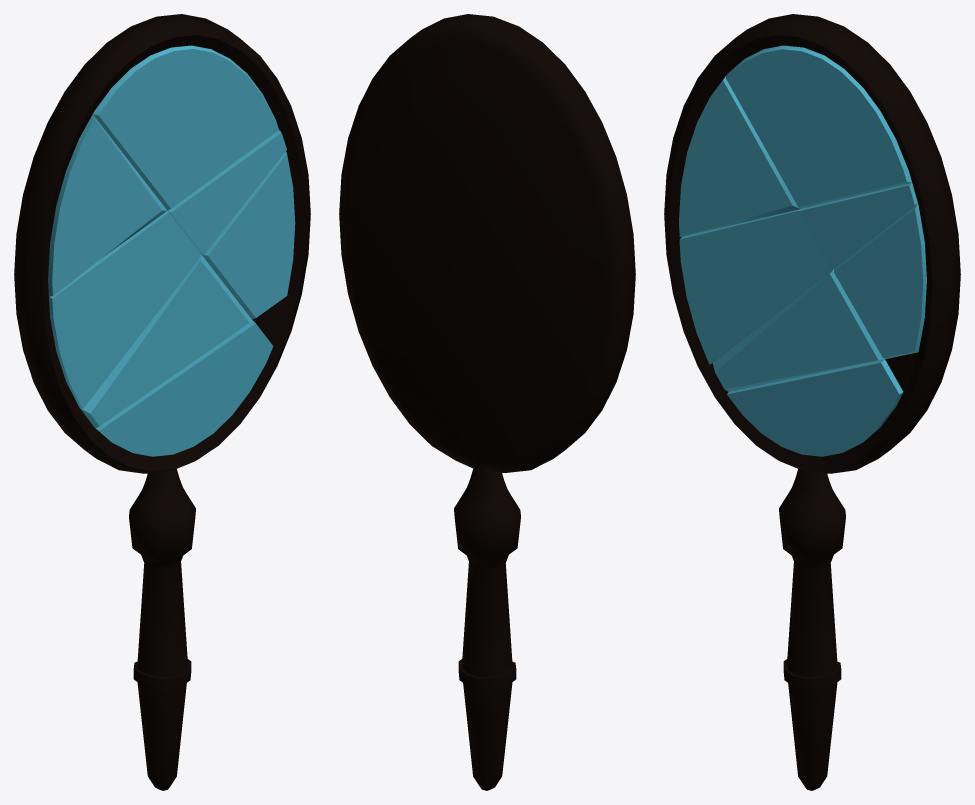
Rendered from cracked_mirror.FBX.
3 views of the same model, side by side, from view 1: azimuth 30°, elevation 25°; view 2: azimuth 150°, elevation 25°; view 3: azimuth 330°, elevation 25° (orthographic).
Parts seen in each view (by area): view 1: mirror; view 2: mirror; view 3: mirror.
Boxes of the visible parts, x1,y1,x2,y2 form: mirror: [14, 14, 310, 790]; mirror: [339, 14, 635, 790]; mirror: [664, 14, 960, 790].
Size of the model in its own units: 6 by 15.46 by 1.15.
